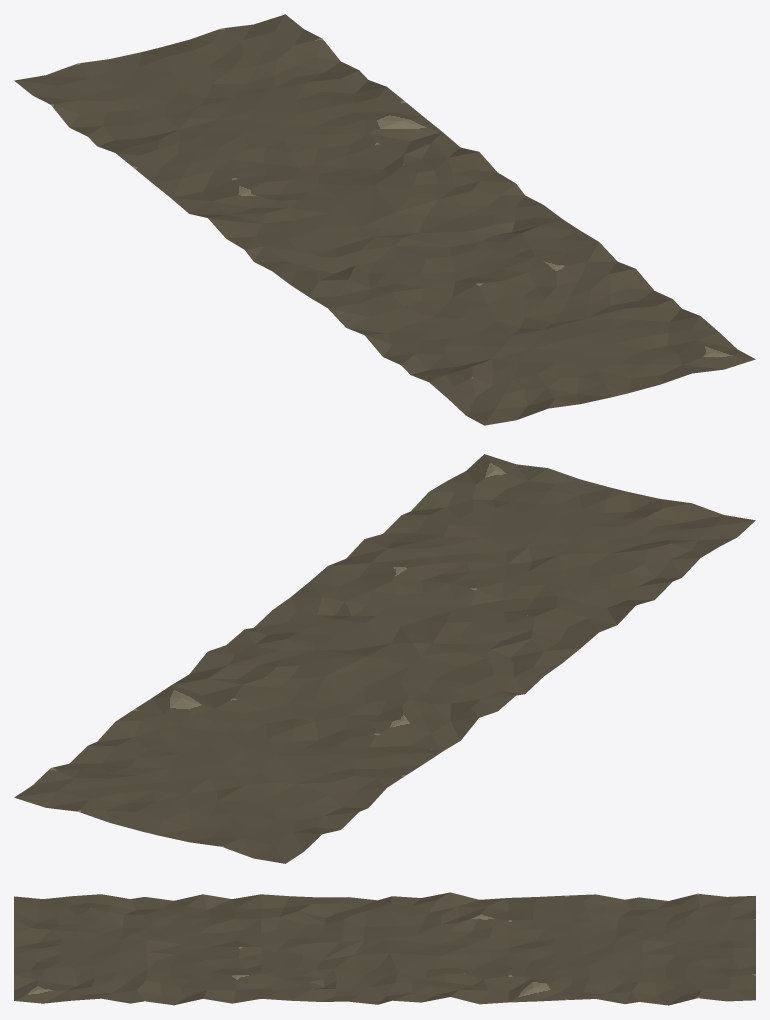
Rendered from waterAnim.FBX.
The picture shows the model from 3 angles, top to bottom: view 1: azimuth 30°, elevation 25°; view 2: azimuth 150°, elevation 25°; view 3: azimuth 270°, elevation 25°; orthographic projection. The views are drawn at different scales.
Parts seen in each view (by area): view 1: Water_009; view 2: Water_009; view 3: Water_009.
Boxes of the visible parts, x1,y1,x2,y2 form: Water_009: (14, 14, 755, 425); Water_009: (14, 454, 755, 863); Water_009: (14, 892, 755, 1005).
Bounding box in the file's own units: 100 × 4.16 × 300.
